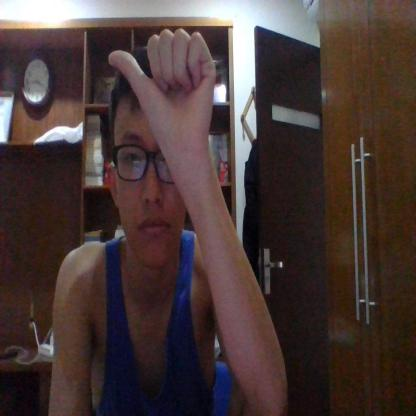right: (108, 29, 220, 154)
